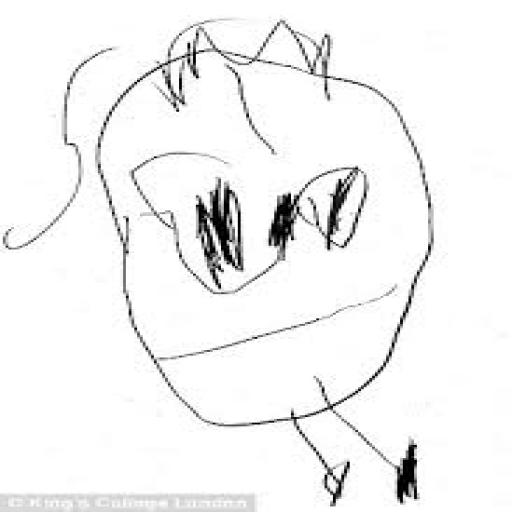person: (2, 15, 452, 510)
